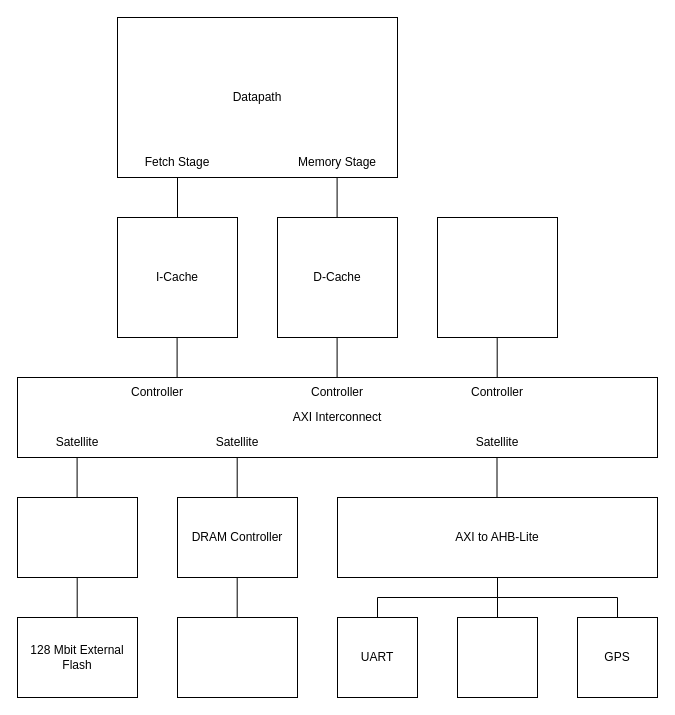
Some shapes in this 675 by 715 pixel diagram are drawn without their labels. The shapes that lost their labels are listed below. From the top down, each one's centre as x and y in pixels, then its label:
point 497,277: GPS iDMA
point 77,537: Flash Controller
point 237,657: 2 Gbit External DDR3
point 497,657: SPI
